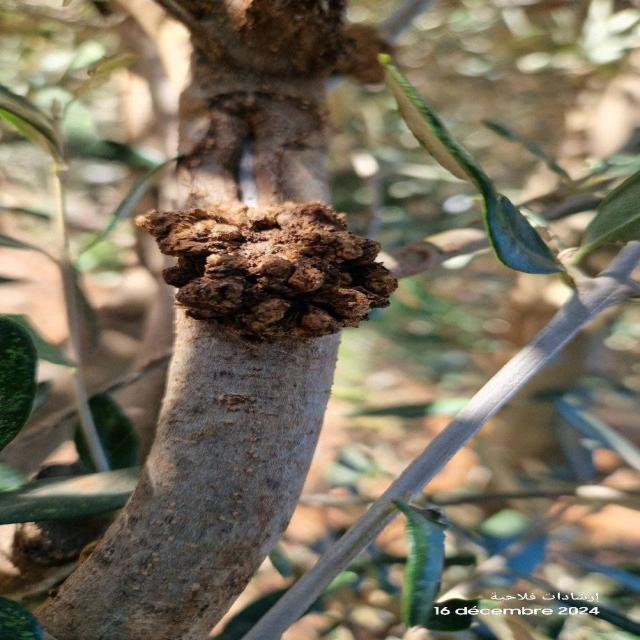Tuberculosis: (136, 203, 442, 342)
